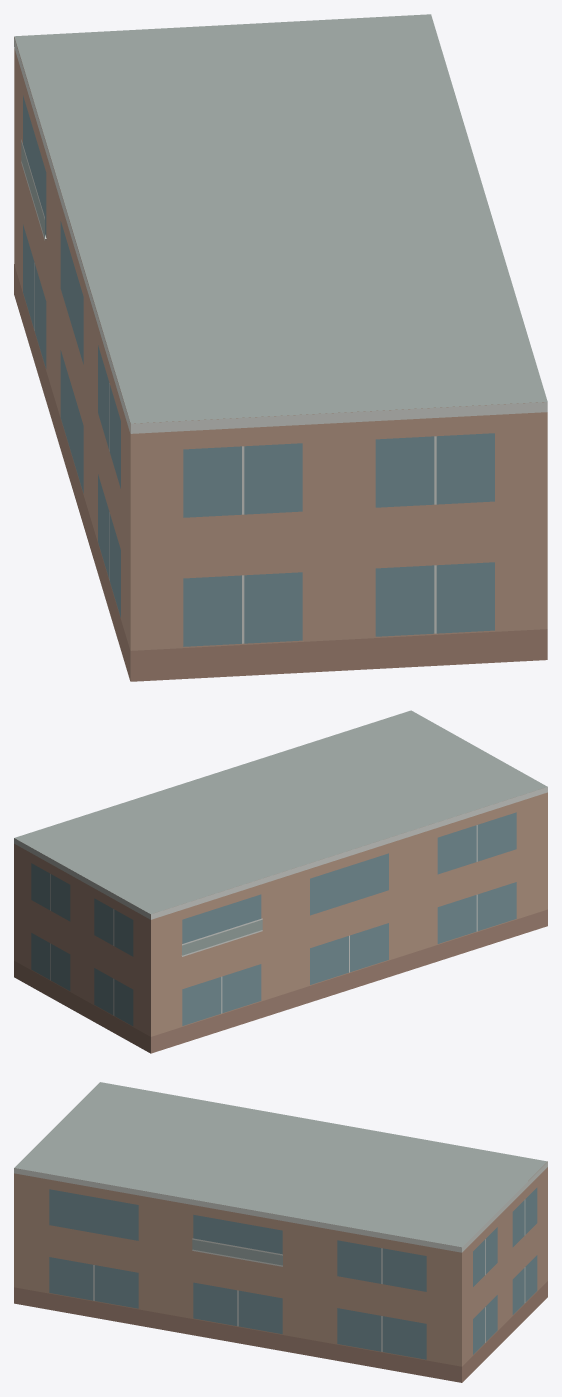
The model's file is survey-upis-32840110.glb.
3 views of the same model, one above another, from view 1: azimuth 30°, elevation 25°; view 2: azimuth 150°, elevation 25°; view 3: azimuth 270°, elevation 25° (orthographic). The views are drawn at different scales.
Parts seen in each view (by area): view 1: survey-upis-32840110.tmp; view 2: survey-upis-32840110.tmp; view 3: survey-upis-32840110.tmp.
Part boxes in pixels (bbox=[...]): survey-upis-32840110.tmp: bbox=[14, 14, 547, 681]; survey-upis-32840110.tmp: bbox=[14, 710, 547, 1053]; survey-upis-32840110.tmp: bbox=[14, 1082, 547, 1382].
Size of the model in its own units: 15.96 by 6.1 by 21.78.
